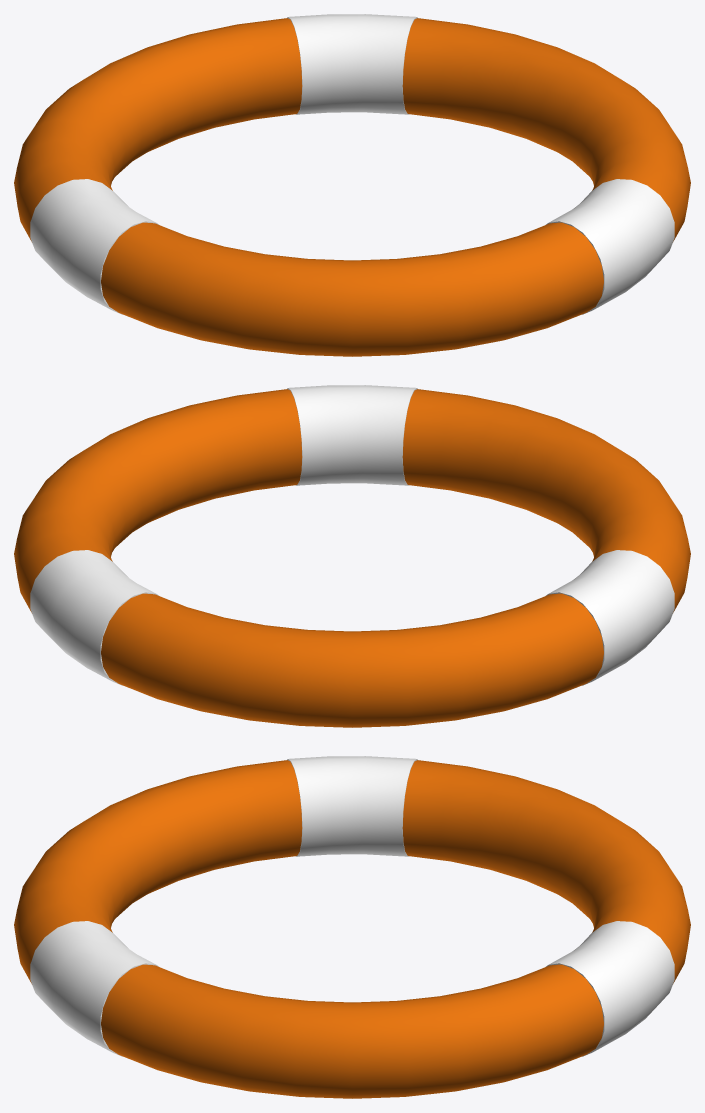
The model's file is striped_note.obj.
The picture shows the model from 3 angles, top to bottom: view 1: azimuth 30°, elevation 25°; view 2: azimuth 150°, elevation 25°; view 3: azimuth 270°, elevation 25°; orthographic projection.
Parts seen in each view (by area): view 1: Striped_Ring; view 2: Striped_Ring; view 3: Striped_Ring.
Boxes of the visible parts, bbox=[...] form: Striped_Ring: bbox=[14, 14, 690, 356]; Striped_Ring: bbox=[14, 385, 690, 727]; Striped_Ring: bbox=[14, 756, 690, 1098].
Bounding box in the file's own units: 0.3556 × 0.0516 × 0.3555.
